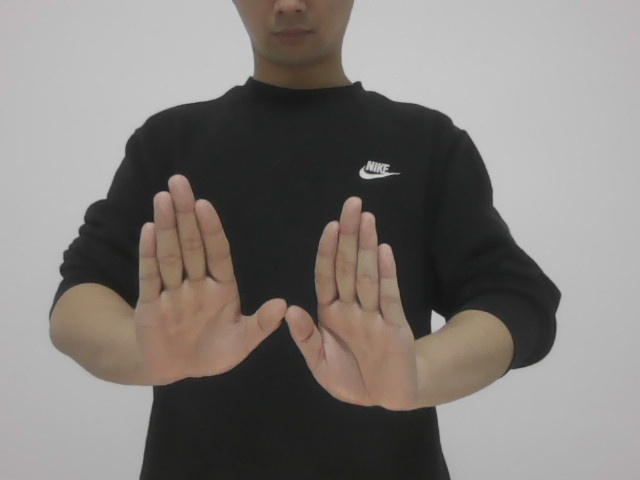door: (126, 163, 428, 416)
